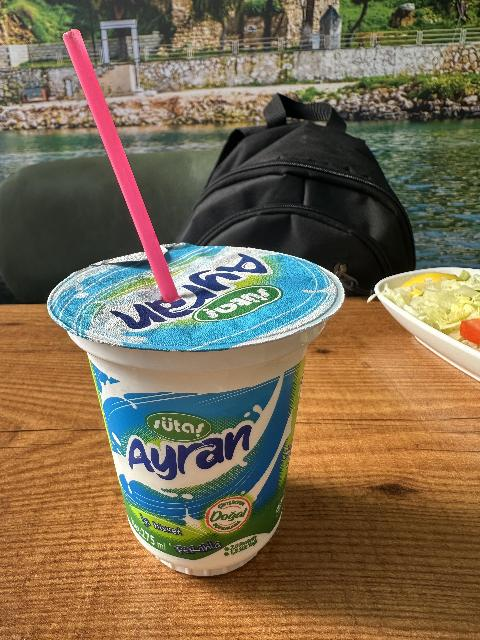Plastik: (41, 251, 333, 568), (51, 32, 181, 298)
